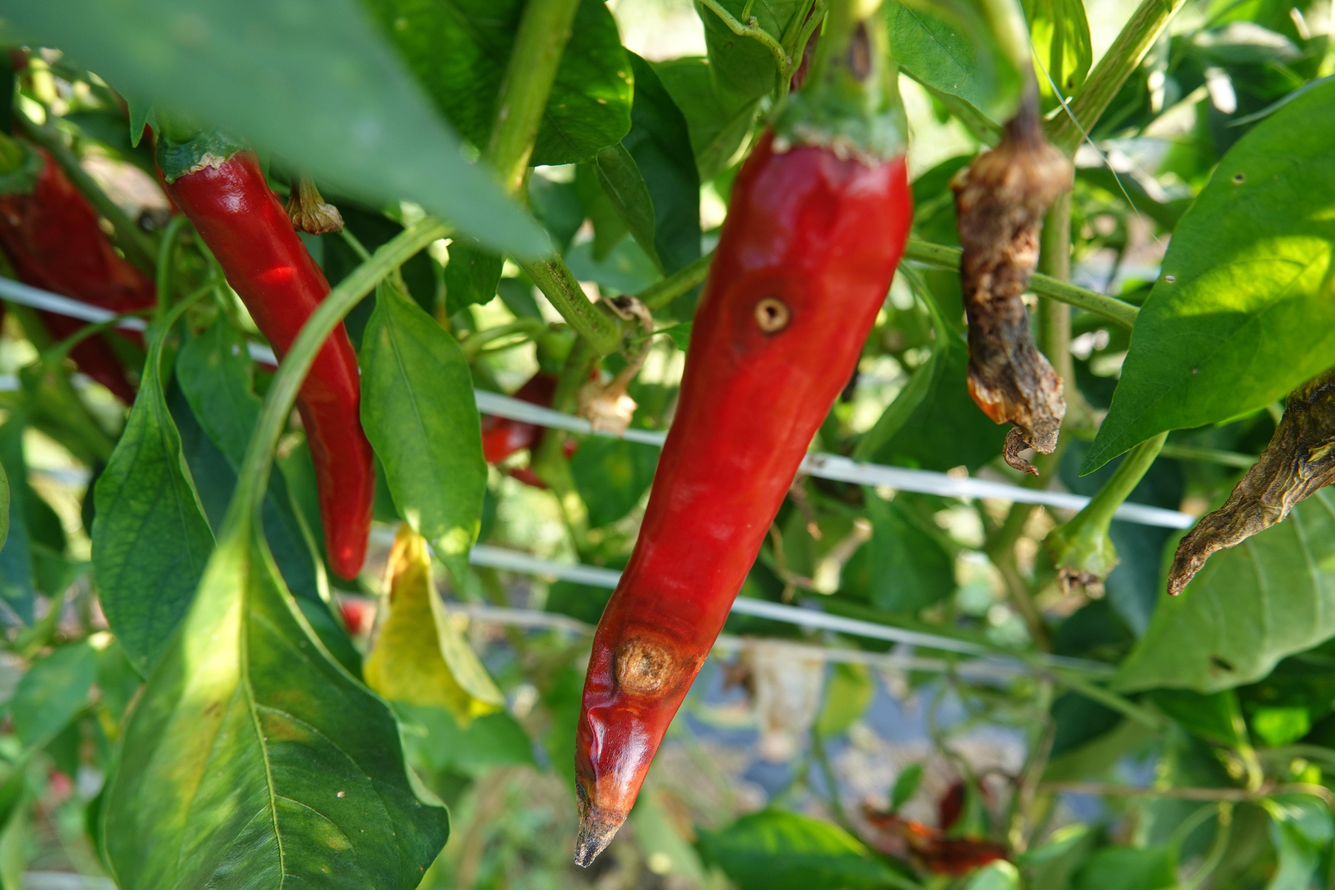Buah Cabai Sehat: (166, 128, 398, 587)
Busuk Buah Antraknosa: (568, 101, 916, 869), (947, 125, 1082, 449)
